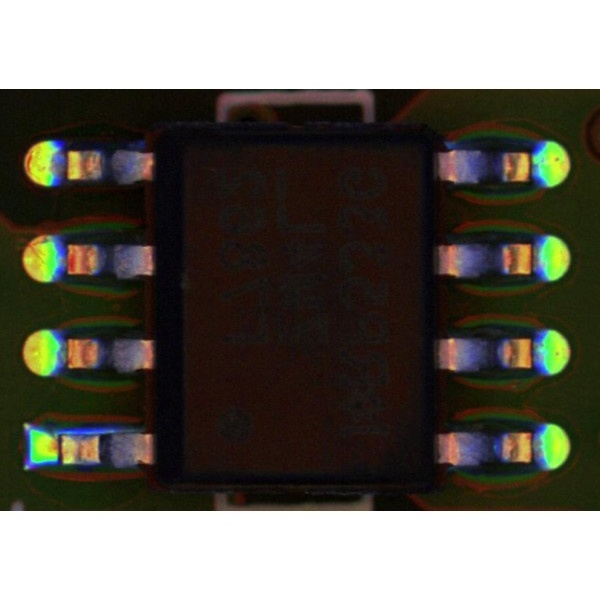Bad_podu: (48, 440, 74, 456)
